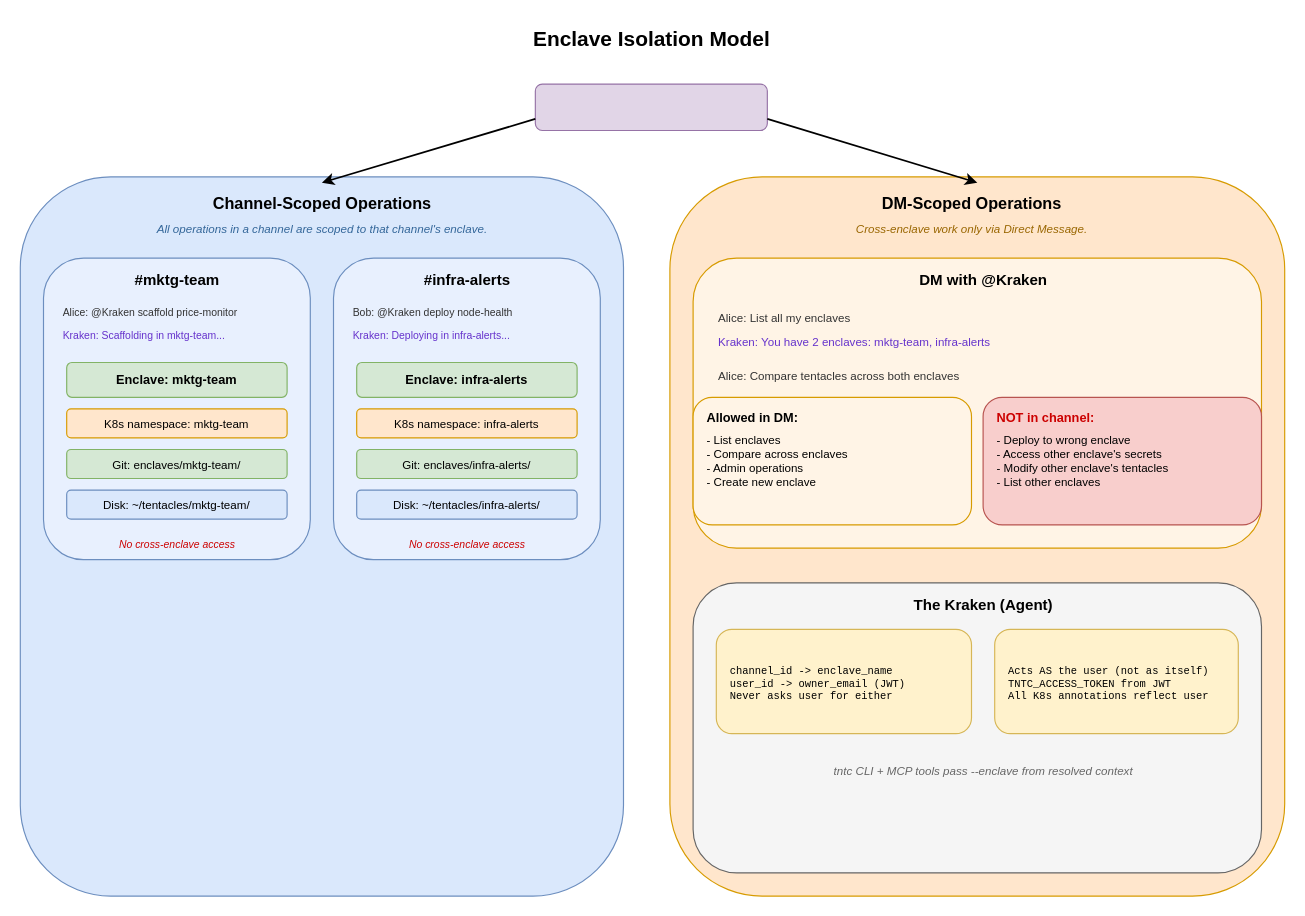
Image size: 1305x916. Some labels were removed from this diagram. The box of each missing label's shape, as (x1, y1, x2, y2) in pixels:
Context Resolution: (715, 628, 971, 734)
Slack: (534, 83, 767, 130)
Transitive Trust: (994, 628, 1238, 734)
